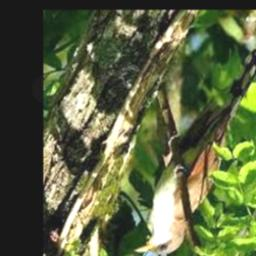Cuckoo: (134, 50, 256, 255)
